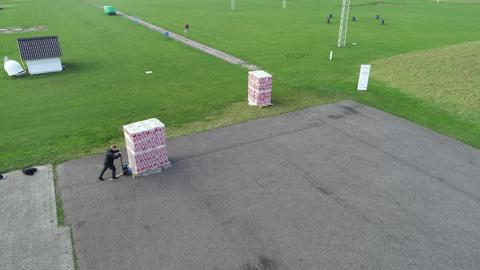RockwoolPallet: (123, 119, 167, 173)
